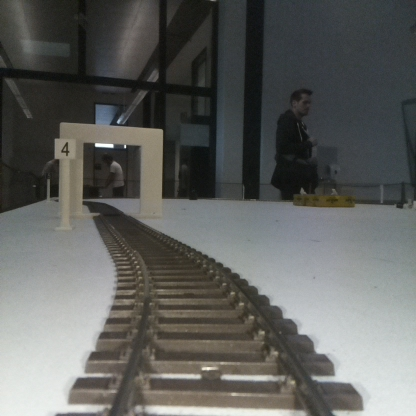white-info-4: (54, 138, 75, 231)
